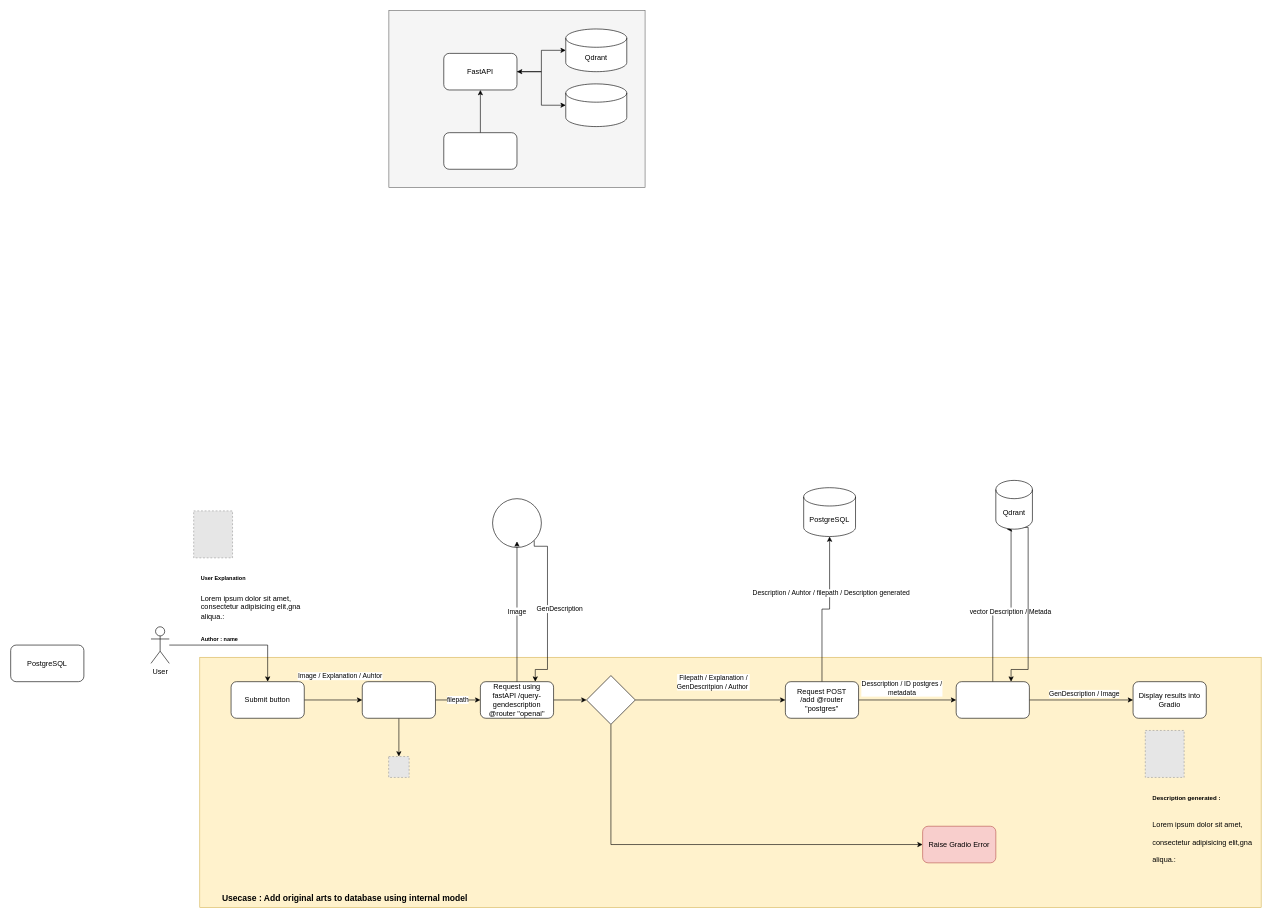
Image size: 1272x918. Some labels were removed from this diagram. Grey dashed boxes stand in for pictures. Each missing label, with the centre of its shape:
Gradio: point (480, 150)
OK ?: point (610, 699)
OPENAI: point (516, 522)
PostgresSQL: point (596, 105)
Request POST /add @router "qdrant": point (992, 699)
Save image: point (398, 699)
